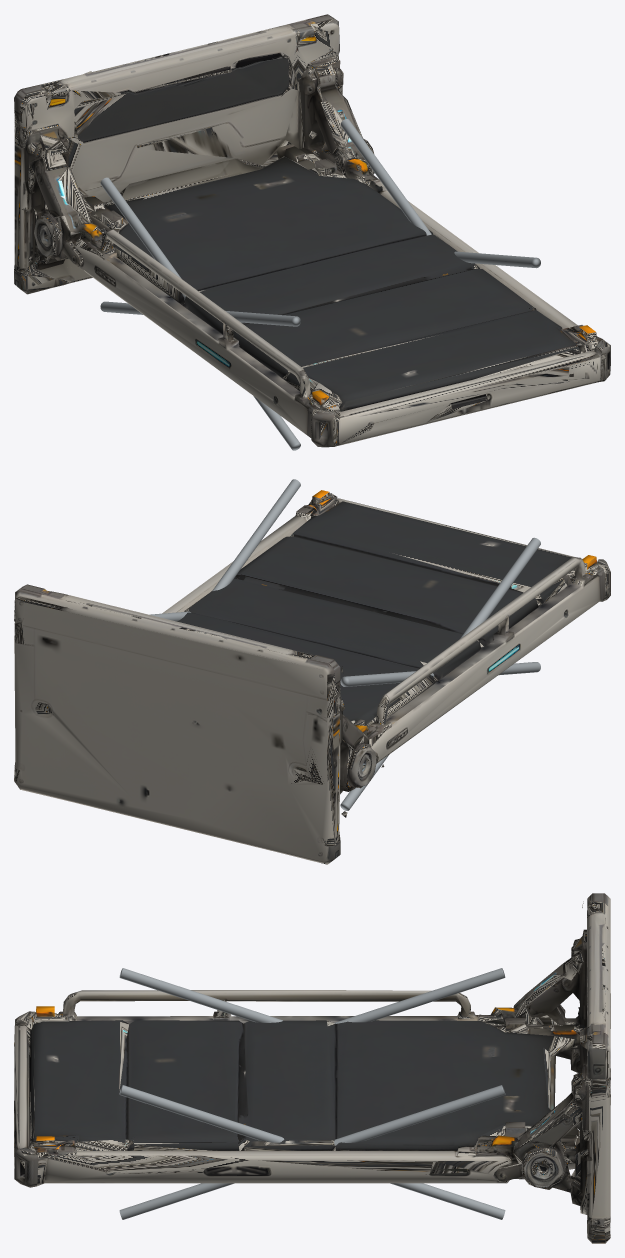
Rendered from folding-berth-DS9Xrwyp.glb.
3 views of the same model, one above another, from view 1: azimuth 30°, elevation 25°; view 2: azimuth 150°, elevation 25°; view 3: azimuth 270°, elevation 25° (orthographic).
Visible parts, largest first — view 1: folding-berth (×2); view 2: folding-berth (×2); view 3: folding-berth (×2).
Boxes of the visible parts, x1,y1,x2,y2 form: folding-berth (×2): (14, 14, 610, 450); folding-berth (×2): (14, 479, 610, 864); folding-berth (×2): (14, 893, 610, 1243).
Size of the model in its own units: 0.6179 by 0.3679 by 0.9873.
Materials: 2 (1 with a texture image).
